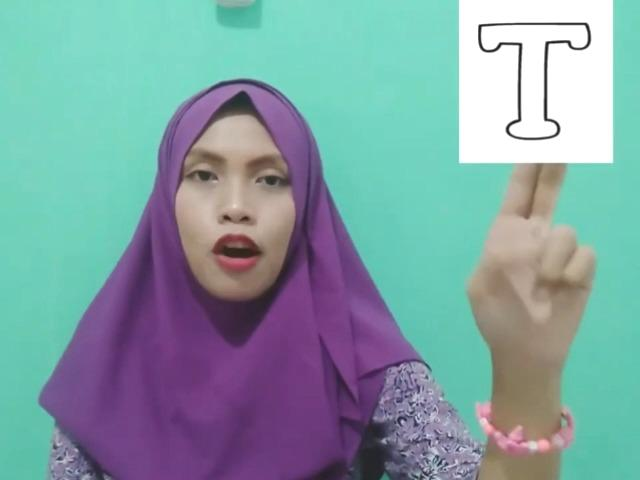U: (466, 138, 600, 380)
